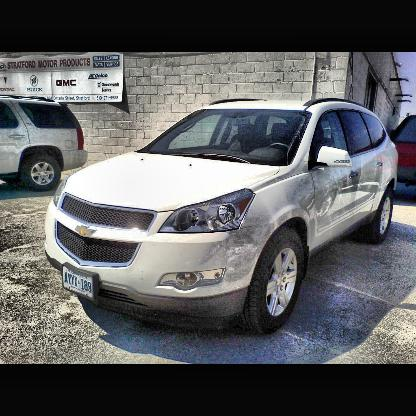Chevrolet Traverse SUV 2012: (44, 97, 404, 343)
